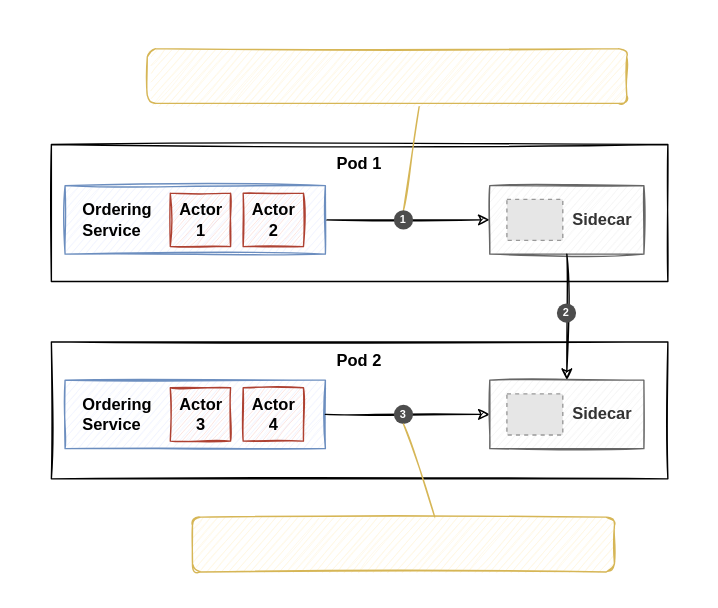
Image size: 718x608. Some labels were removed from this diagram. Grey dashed boxes stand in for pictures. The centre of each missing label's shape, as x and y in pixels:
POST http://localhost/actors/OrderActor/3/method/ship: [402,544]
POST http://localhost:3500/v1.0/actors/OrderActor/3/method/ship: [386,75]
